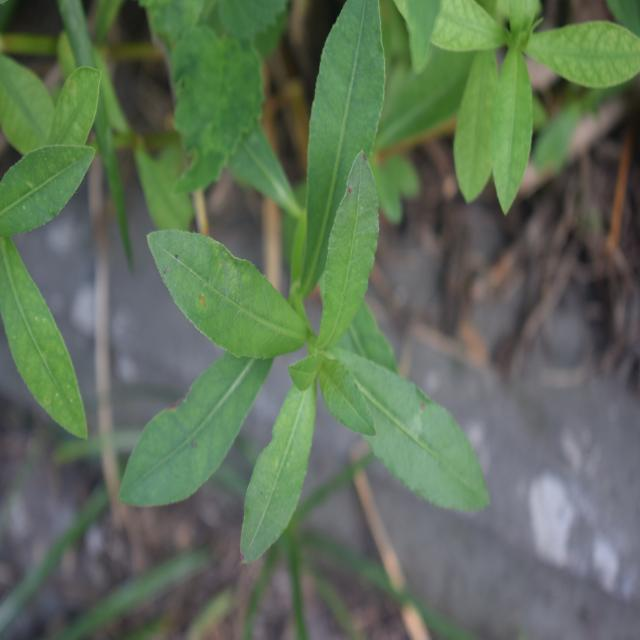Alligatorweed: (144, 57, 470, 545)
